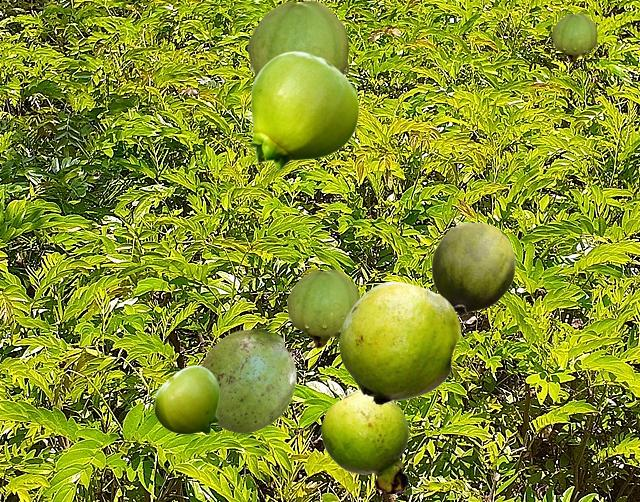guava: (339, 281, 460, 404), (249, 51, 358, 169), (201, 329, 295, 432), (321, 389, 408, 492), (431, 222, 515, 315), (248, 0, 348, 75), (287, 269, 359, 347), (154, 365, 218, 433), (552, 13, 596, 61)
